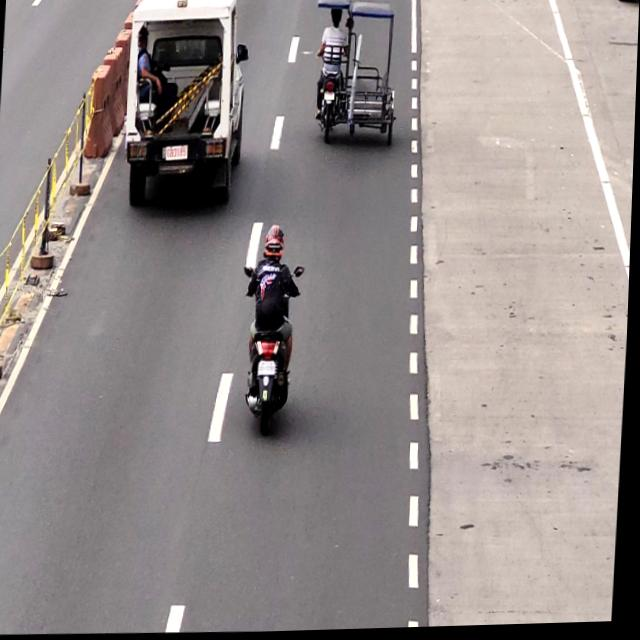Jeep: (124, 0, 247, 210)
License-Plate: (167, 144, 190, 163), (258, 360, 279, 380)
Motorcycle: (244, 223, 302, 433)
Tricycle: (311, 0, 405, 148)
